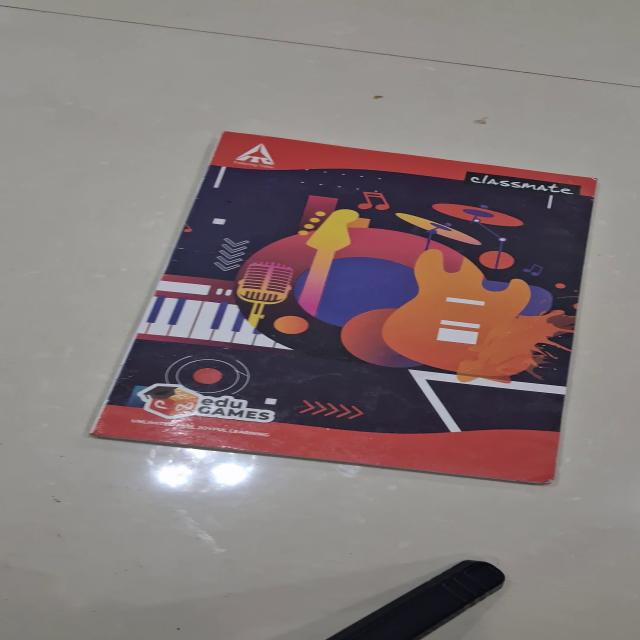paper: (88, 131, 598, 485)
